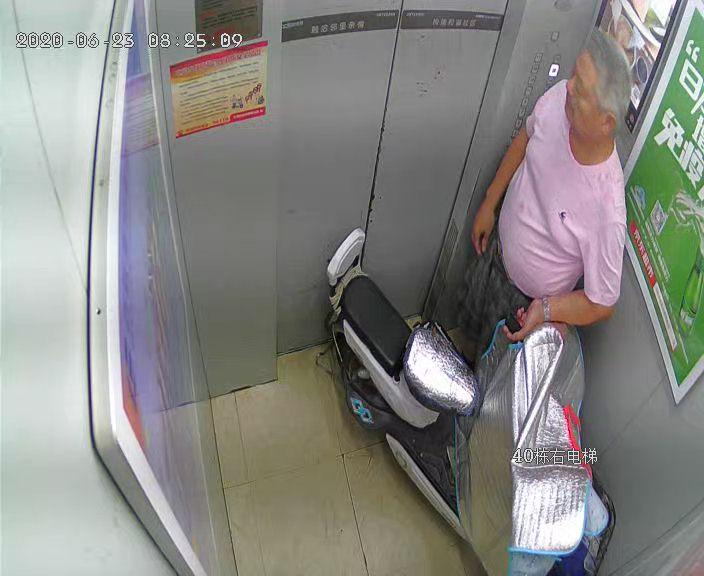Electric-bicycle: (321, 230, 609, 567)
